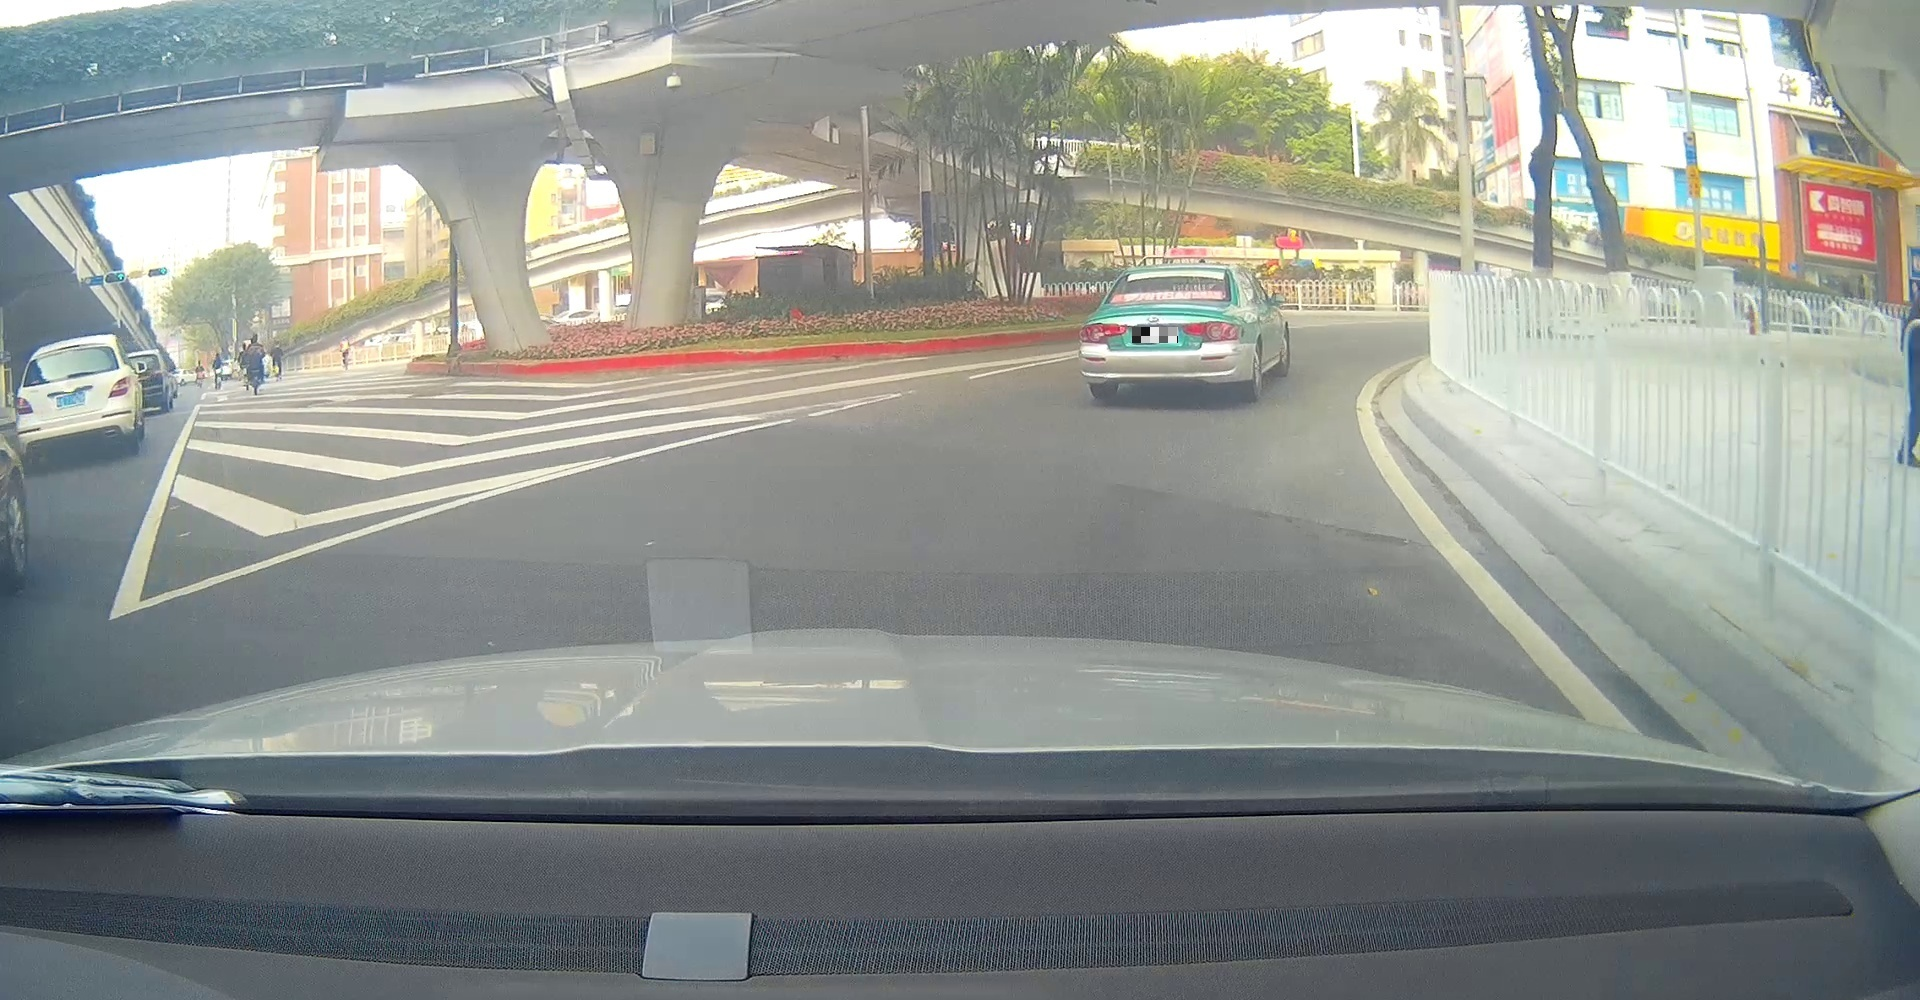L_light: (1079, 322, 1126, 343), (17, 397, 33, 415)
R_light: (1181, 320, 1239, 341), (109, 376, 130, 398)
T_light: (1164, 272, 1186, 277), (57, 352, 79, 357)
day-no: (1078, 265, 1242, 401), (15, 340, 138, 472)
plate_1: (1131, 327, 1178, 343)
